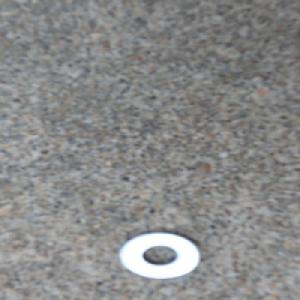Washer: (117, 231, 201, 280)
